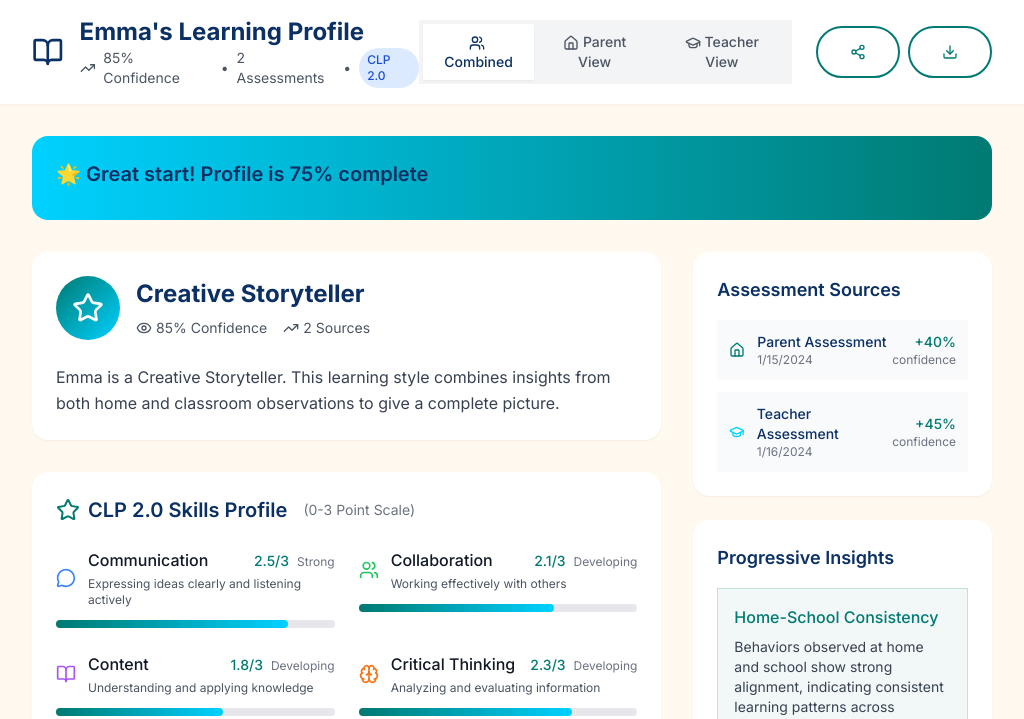
ContextualResultsPage › CLP 2.0 Skills Visualization › should show contextual insights for individual skills in specific views
What coordinates should you click on to do the following:
click the button "Parent View"
I would click on:
 (595, 52)
Its box is left=534, top=24, right=656, bottom=80.
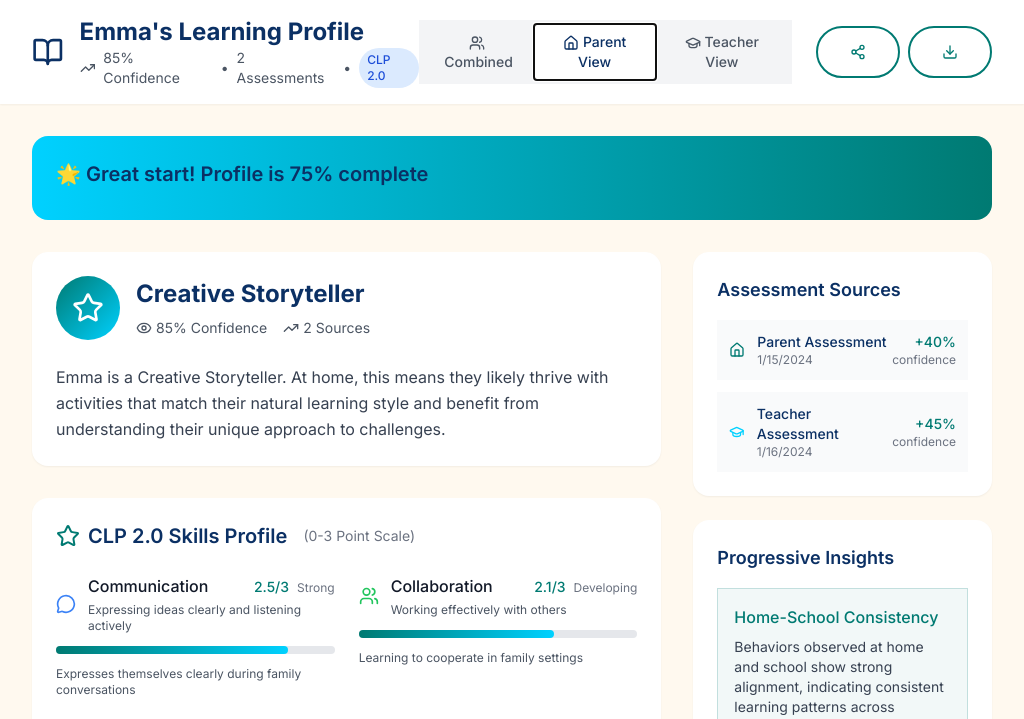
Now the text "Expresses themselves clearly during family conversations" is shown, box left=56, top=666, right=335, bottom=698
